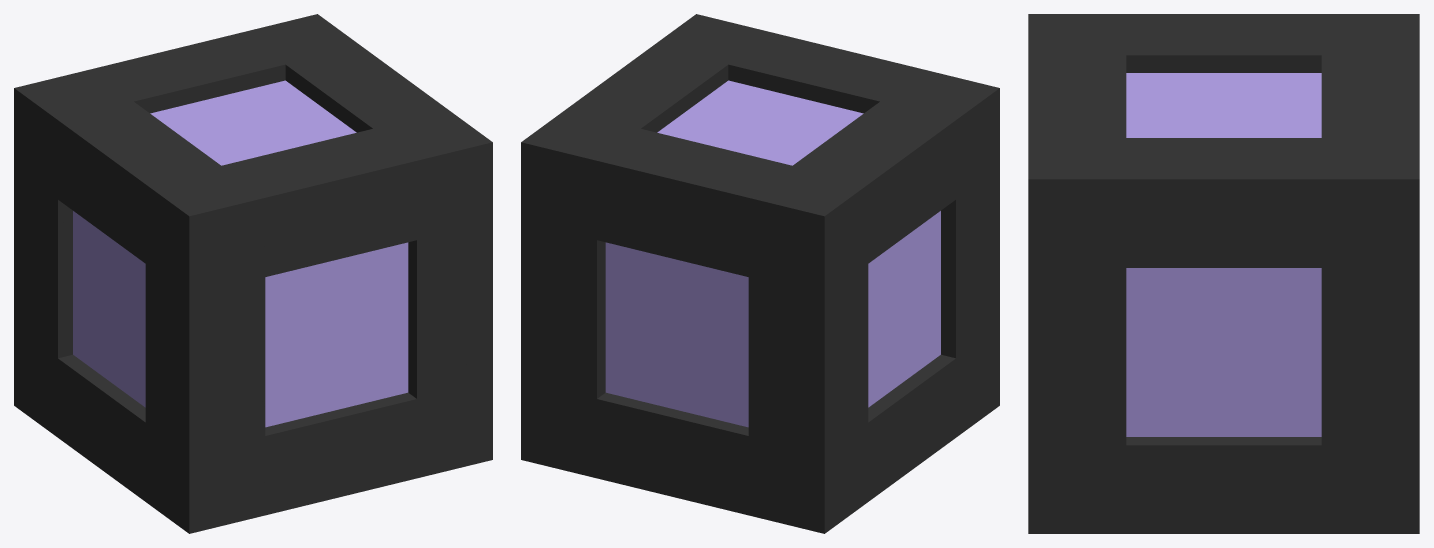
Rendered from PickupDrumBomb.fbx.
The picture shows the model from 3 angles, left to right: view 1: azimuth 30°, elevation 25°; view 2: azimuth 150°, elevation 25°; view 3: azimuth 270°, elevation 25°; orthographic projection. The views are drawn at different scales.
Visible parts, largest first — view 1: Cube; view 2: Cube; view 3: Cube.
Part boxes in pixels (bbox=[...]): Cube: bbox=[14, 14, 492, 533]; Cube: bbox=[521, 14, 999, 533]; Cube: bbox=[1028, 14, 1419, 533].
Bounding box in the file's own units: 2 × 2 × 2.
